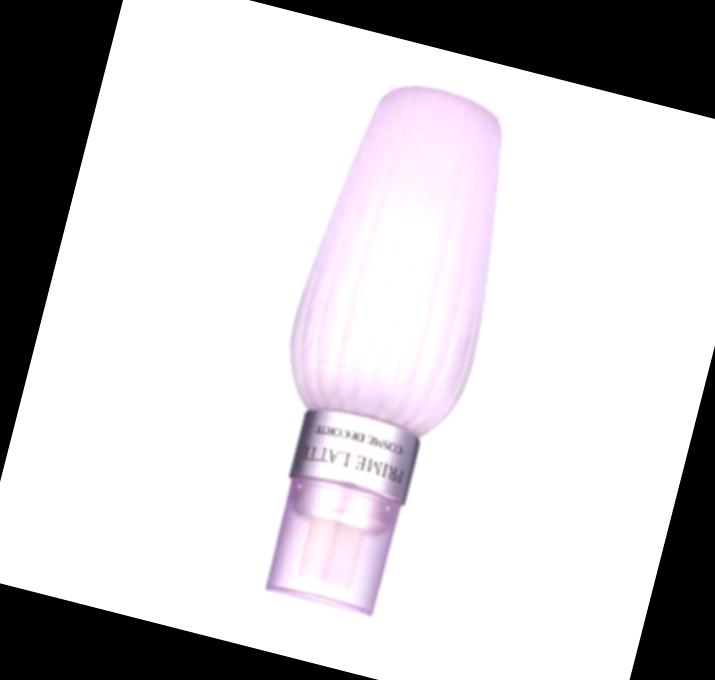cosmetic: (231, 65, 524, 629)
